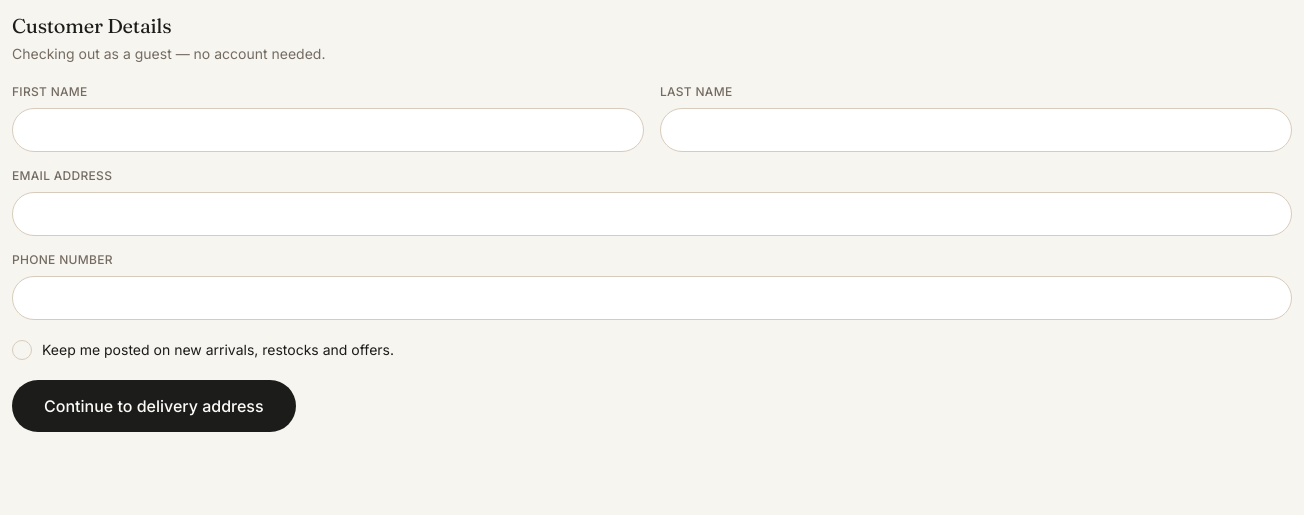
it: CustomerDetailsStep (checkout form component) › shows validation errors and does not call onNext when submitted empty
Click the button "Continue to delivery address". click: (154, 406)
box: [12,380,296,432]
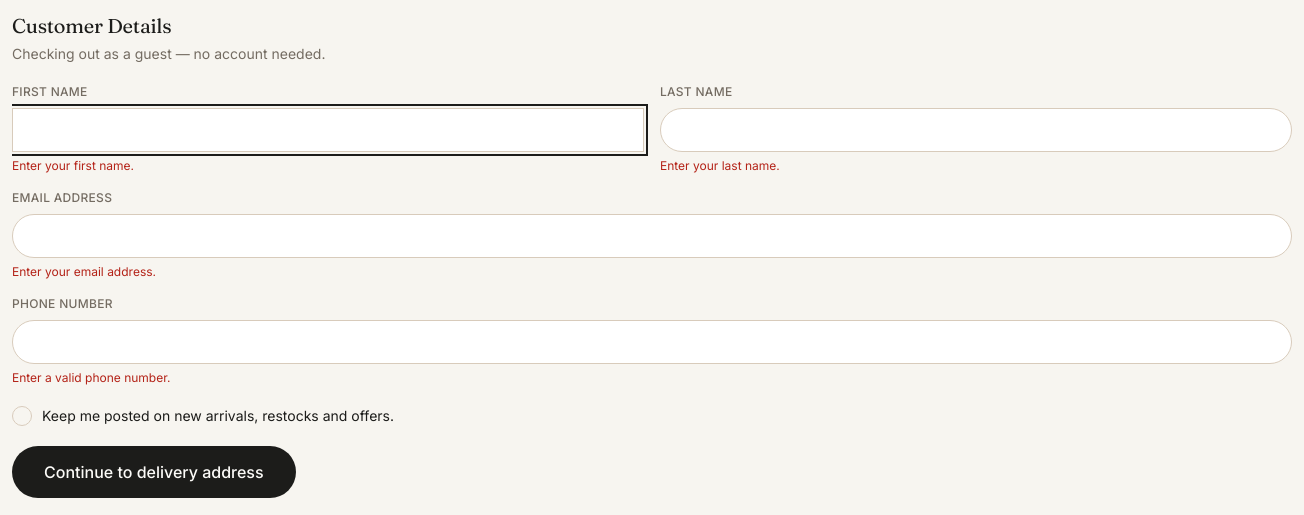
Check: the text "Enter your first name." is shown, box [12,158,134,173]
